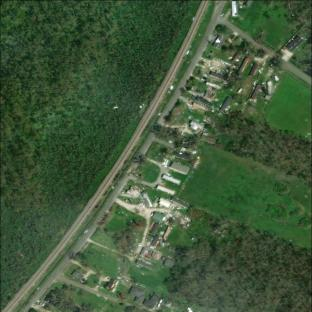Floresta: (0, 0, 200, 309), (163, 208, 312, 312), (214, 111, 312, 186), (0, 0, 0, 0)
